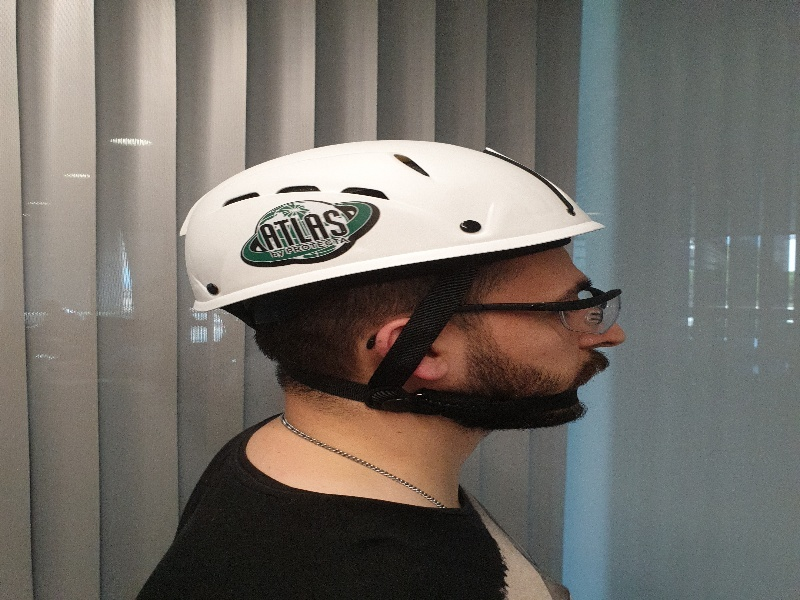Baret: (180, 141, 607, 314)
Gozluk: (541, 285, 633, 337)
